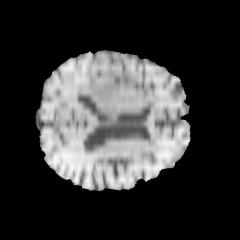glioma: (82, 64, 124, 98)
